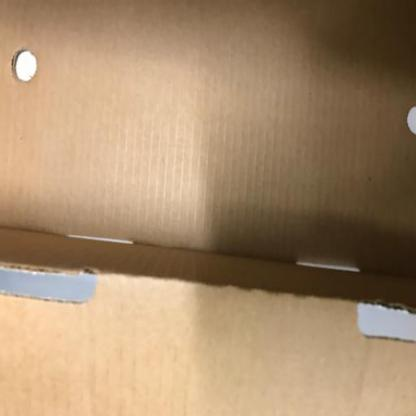CARDBOARD: (0, 0, 415, 415), (0, 225, 415, 415)
